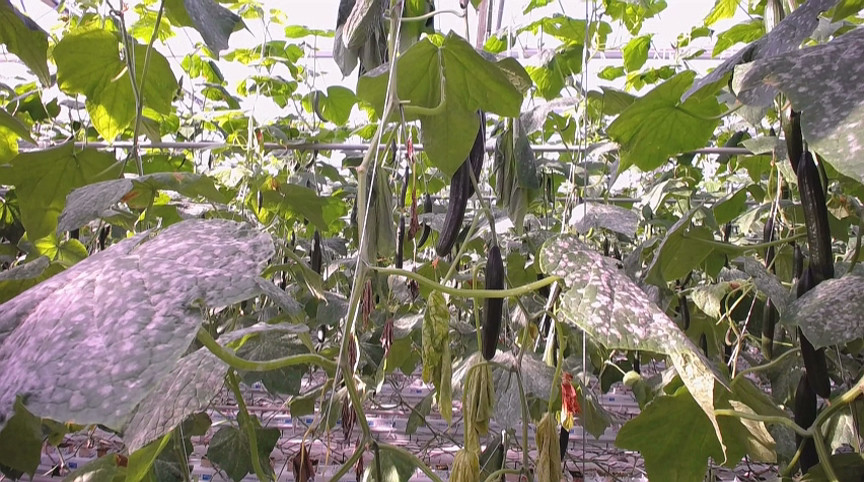cucumber: (797, 151, 835, 278), (796, 267, 831, 398), (436, 162, 469, 257), (481, 247, 504, 361), (793, 376, 821, 468), (342, 1, 387, 49), (762, 1, 786, 33)
